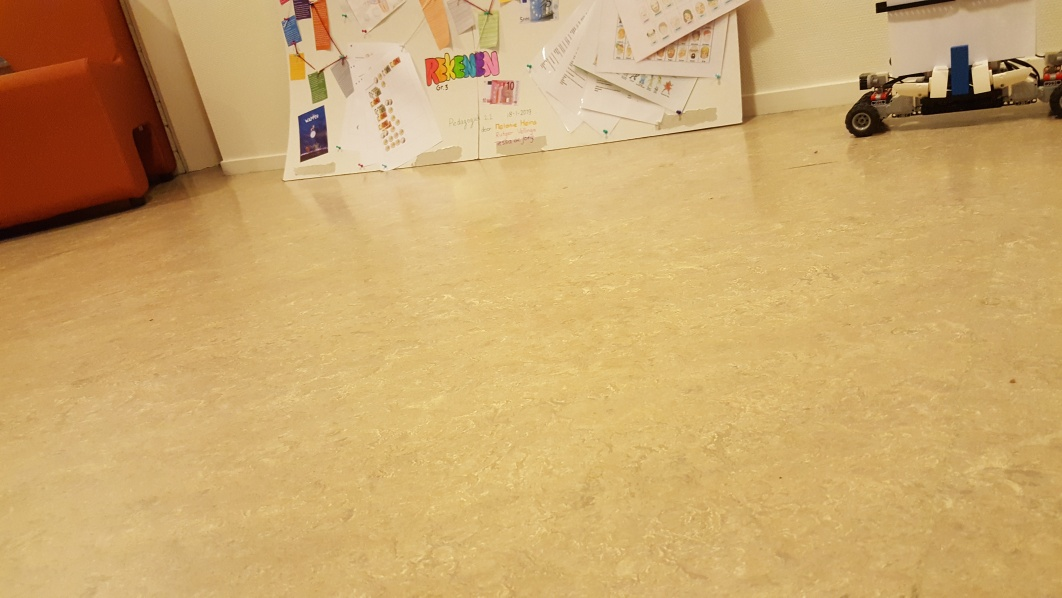car: (847, 2, 1062, 137)
